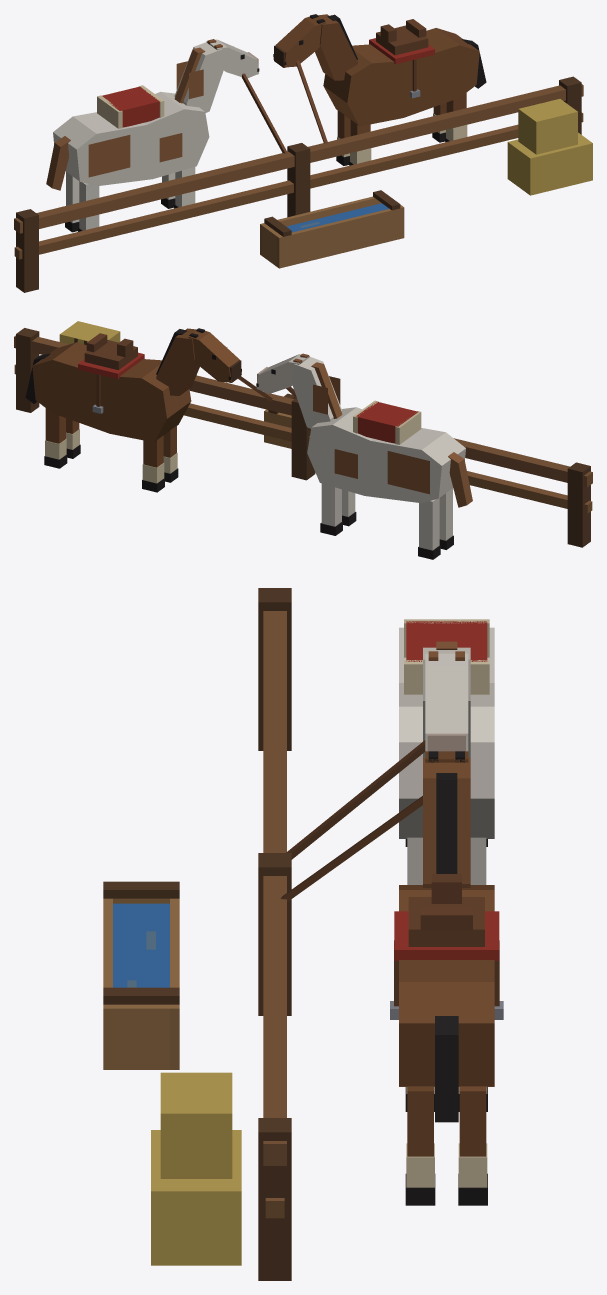
Rendered from Decor_WesternSaloon_Horses.fbx.
The picture shows the model from 3 angles, top to bottom: view 1: azimuth 30°, elevation 25°; view 2: azimuth 150°, elevation 25°; view 3: azimuth 270°, elevation 25°; orthographic projection. The views are drawn at different scales.
Visible parts, largest first — view 1: Horses_Body; view 2: Horses_Body; view 3: Horses_Body.
Boxes of the visible parts, x1,y1,x2,y2 form: Horses_Body: (14,14,592,292); Horses_Body: (14,321,592,559); Horses_Body: (103,588,503,1280).
Bounding box in the file's own units: 27 × 7.2 × 8.3.
